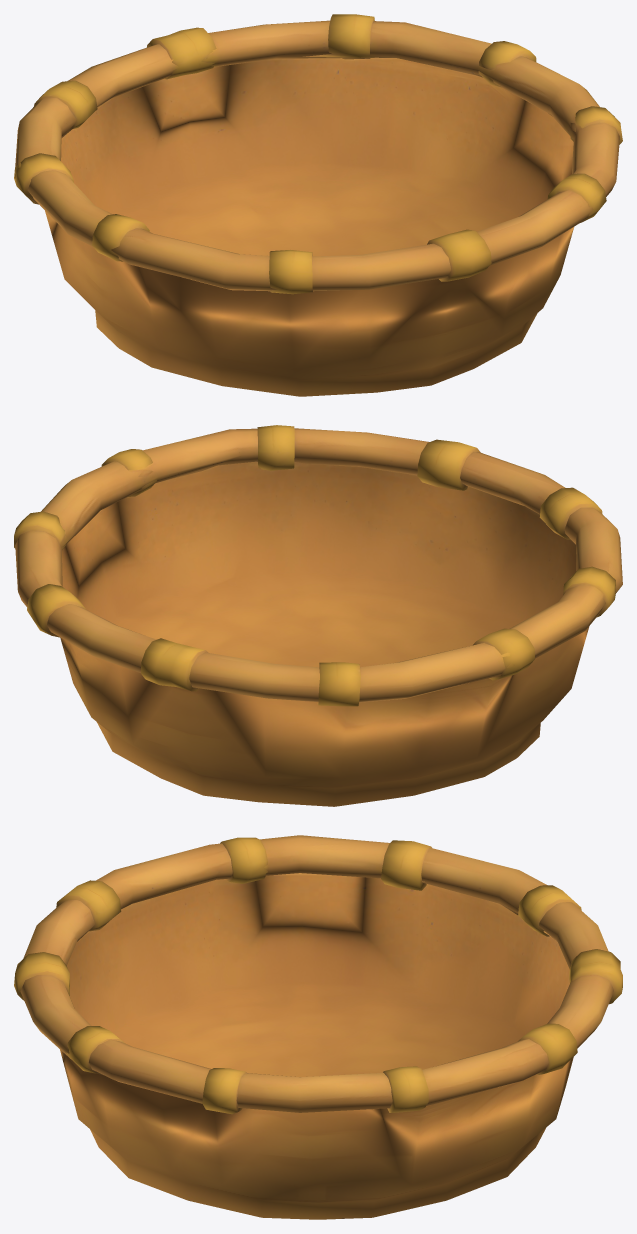
The picture shows the model from 3 angles, top to bottom: view 1: azimuth 30°, elevation 25°; view 2: azimuth 150°, elevation 25°; view 3: azimuth 270°, elevation 25°; orthographic projection.
Parts seen in each view (by area): view 1: tripo_node_c4575cc4-5f38-40c8-aed3-4d4b36ca1134; view 2: tripo_node_c4575cc4-5f38-40c8-aed3-4d4b36ca1134; view 3: tripo_node_c4575cc4-5f38-40c8-aed3-4d4b36ca1134.
Part boxes in pixels (bbox=[...]): tripo_node_c4575cc4-5f38-40c8-aed3-4d4b36ca1134: bbox=[14, 14, 622, 396]; tripo_node_c4575cc4-5f38-40c8-aed3-4d4b36ca1134: bbox=[14, 425, 622, 806]; tripo_node_c4575cc4-5f38-40c8-aed3-4d4b36ca1134: bbox=[14, 835, 622, 1219].
Size of the model in its own units: 0.998 by 0.3066 by 0.998.
Materials: 1 (1 with a texture image).
